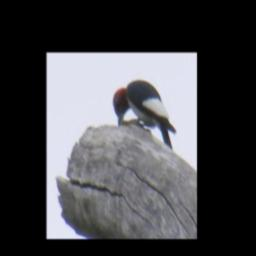Woodpecker: (110, 77, 179, 152)
